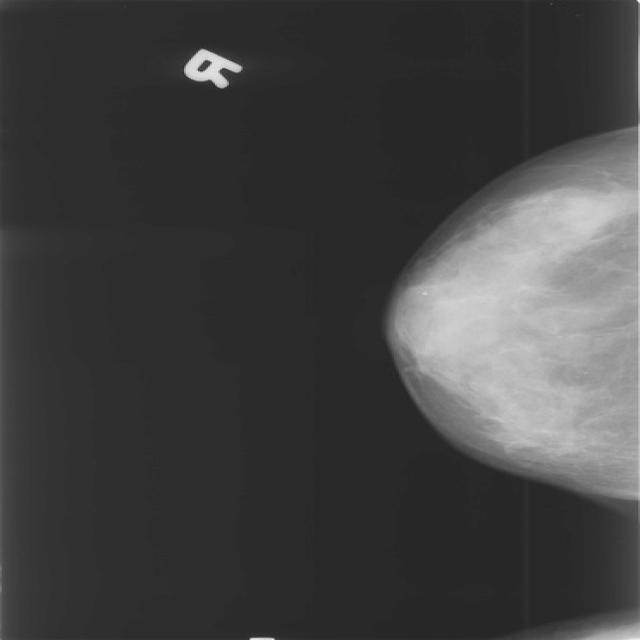tumour: (525, 193, 626, 236)
